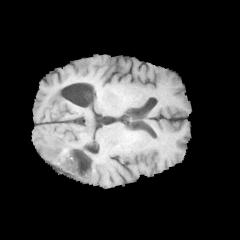glioma: (37, 138, 95, 184)
